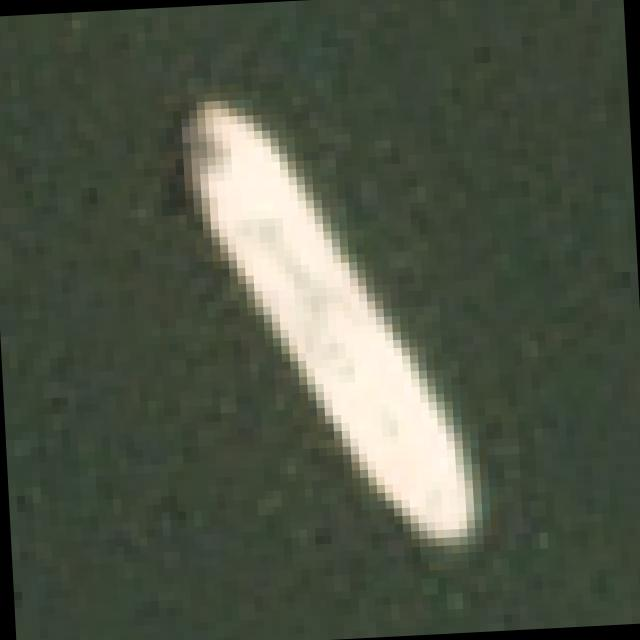ship: (164, 64, 522, 606)
